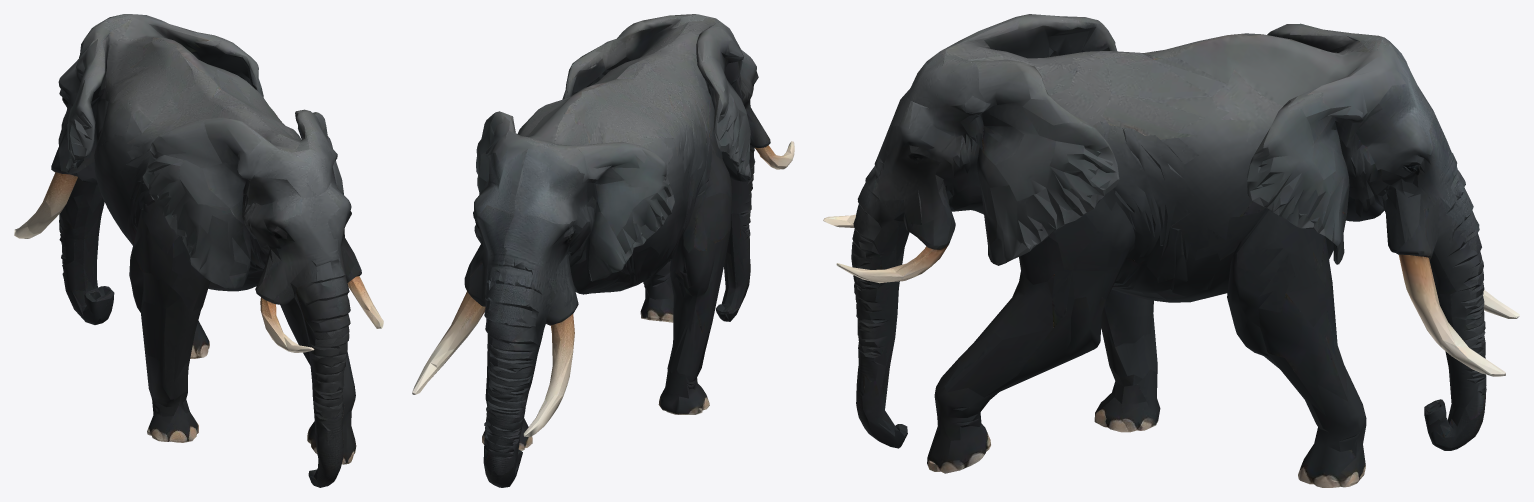
The model's file is fauna_elephant.glb.
The picture shows the model from 3 angles, left to right: view 1: azimuth 30°, elevation 25°; view 2: azimuth 150°, elevation 25°; view 3: azimuth 270°, elevation 25°; orthographic projection. The views are drawn at different scales.
Size of the model in its own units: 0.74 by 1.25 by 1.9.
Materials: 1 (1 with a texture image).
